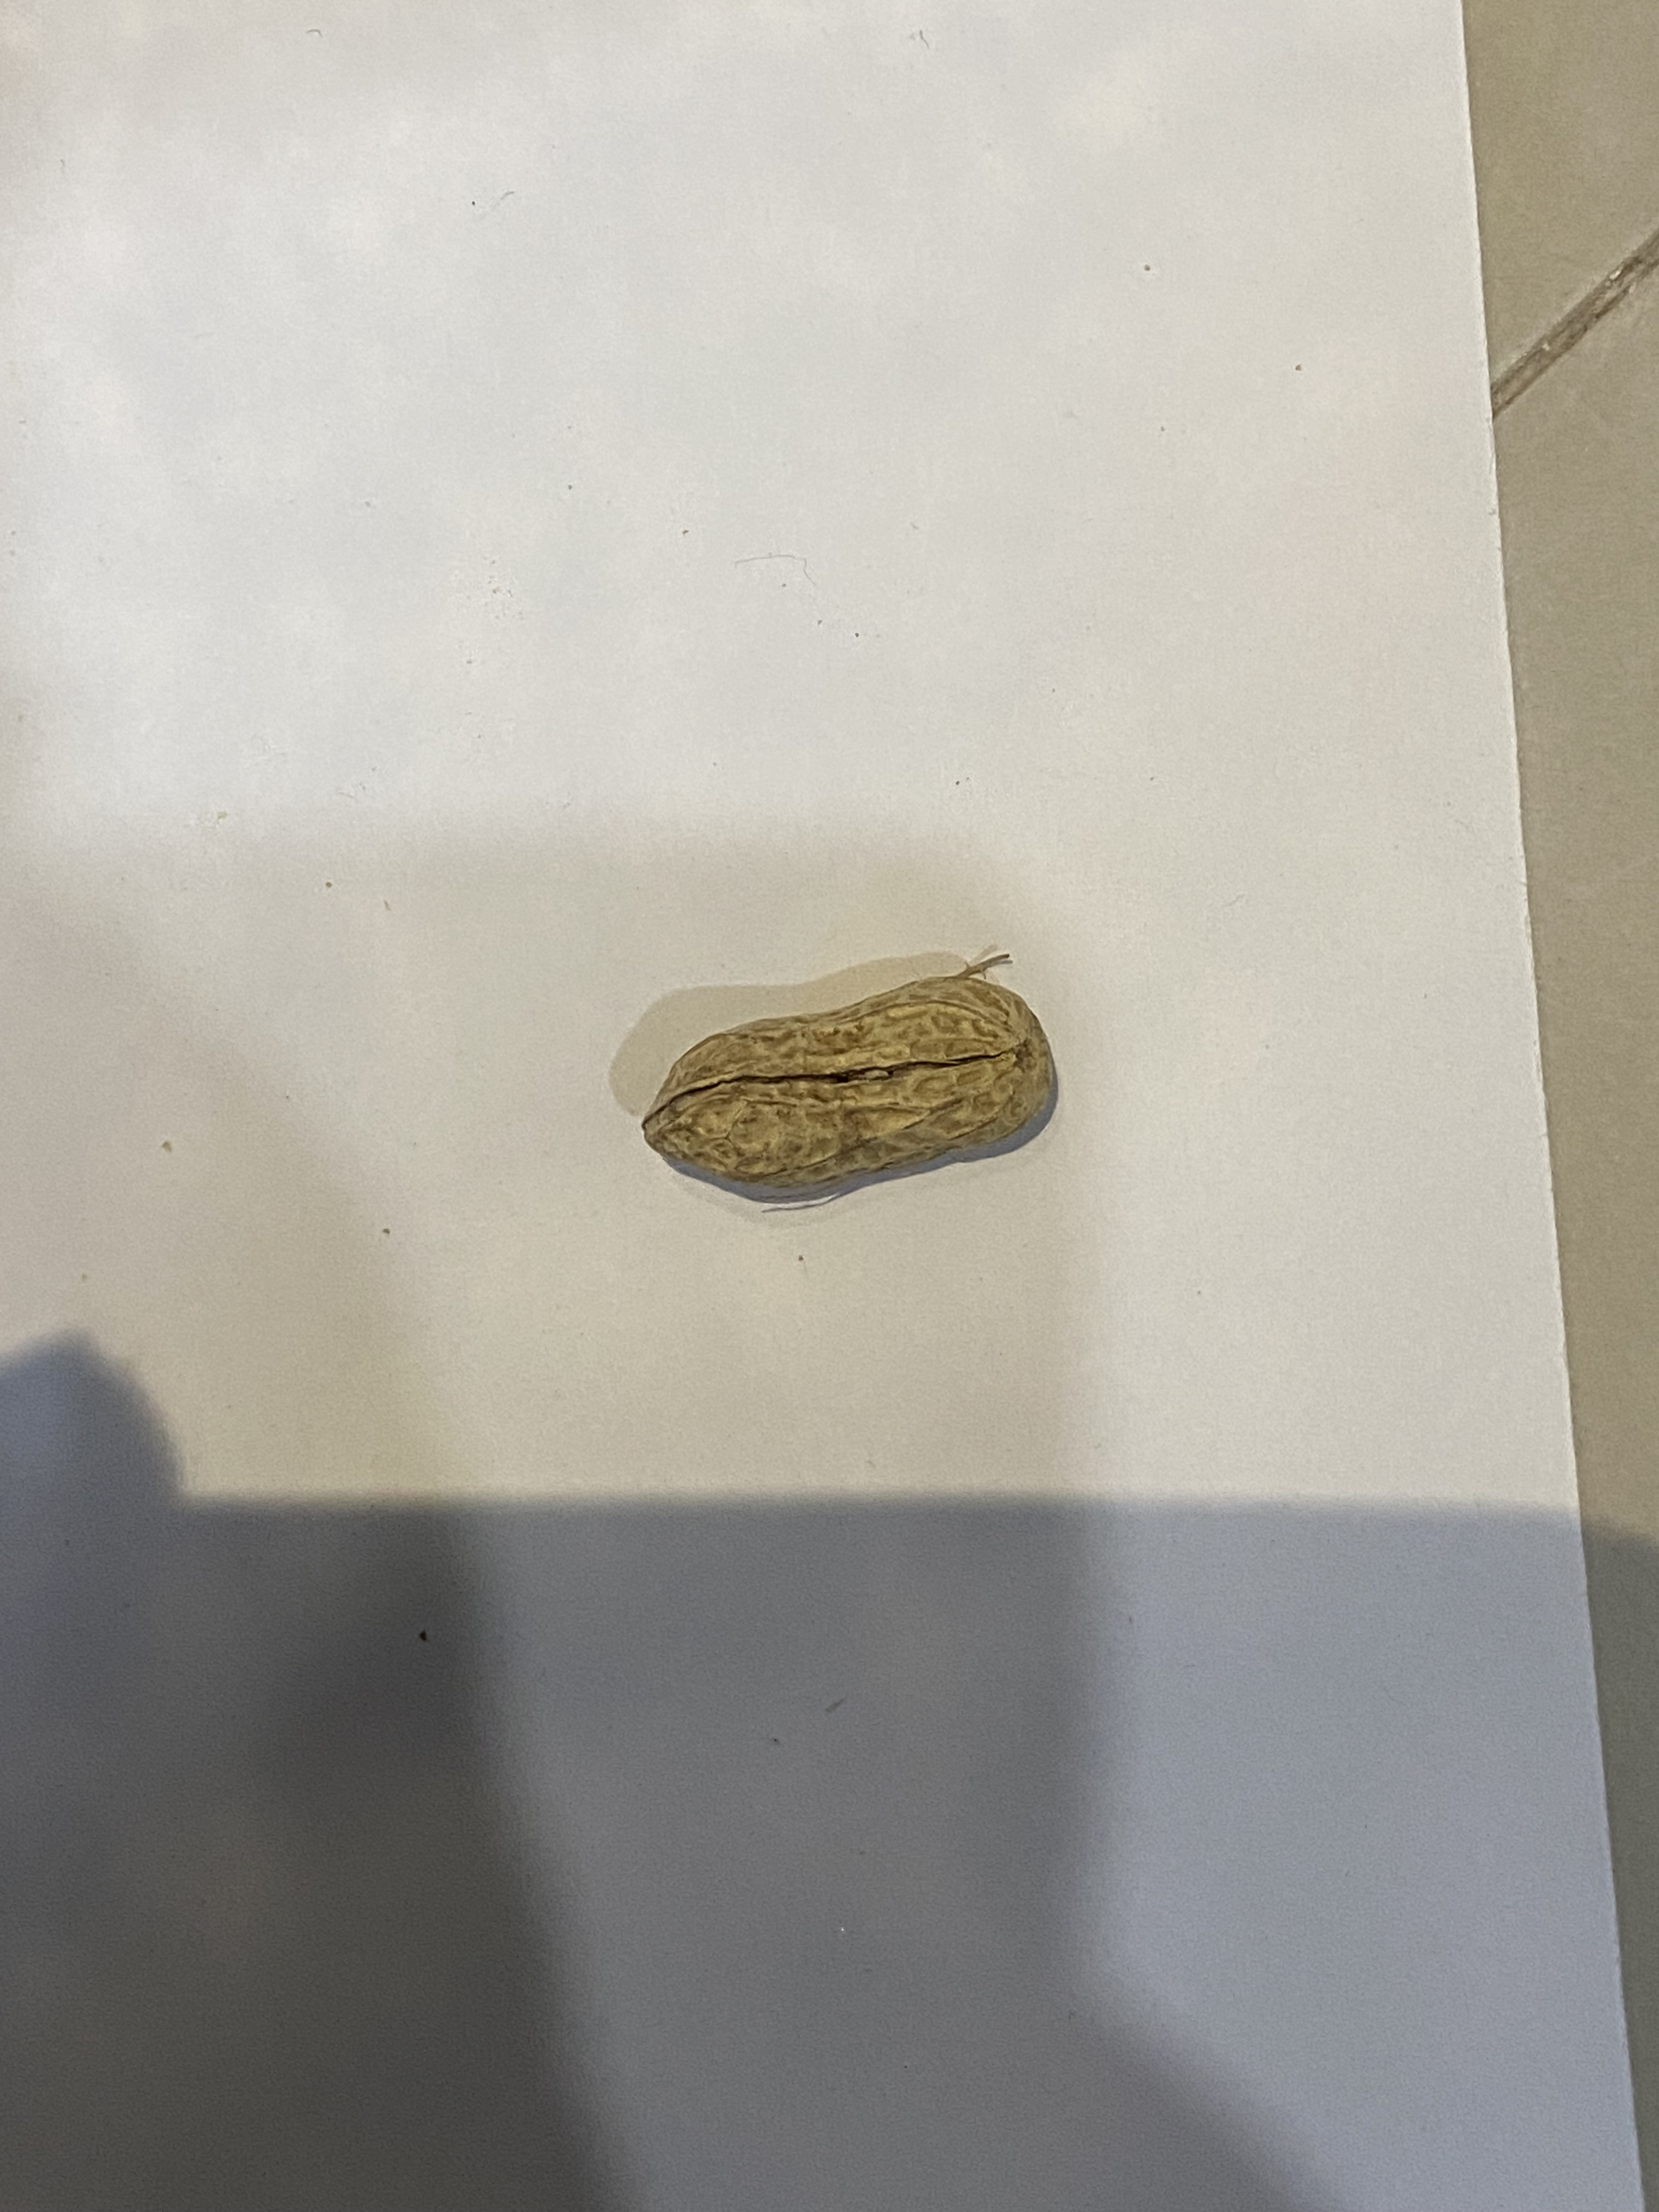kacang2: (633, 951, 1079, 1195)
